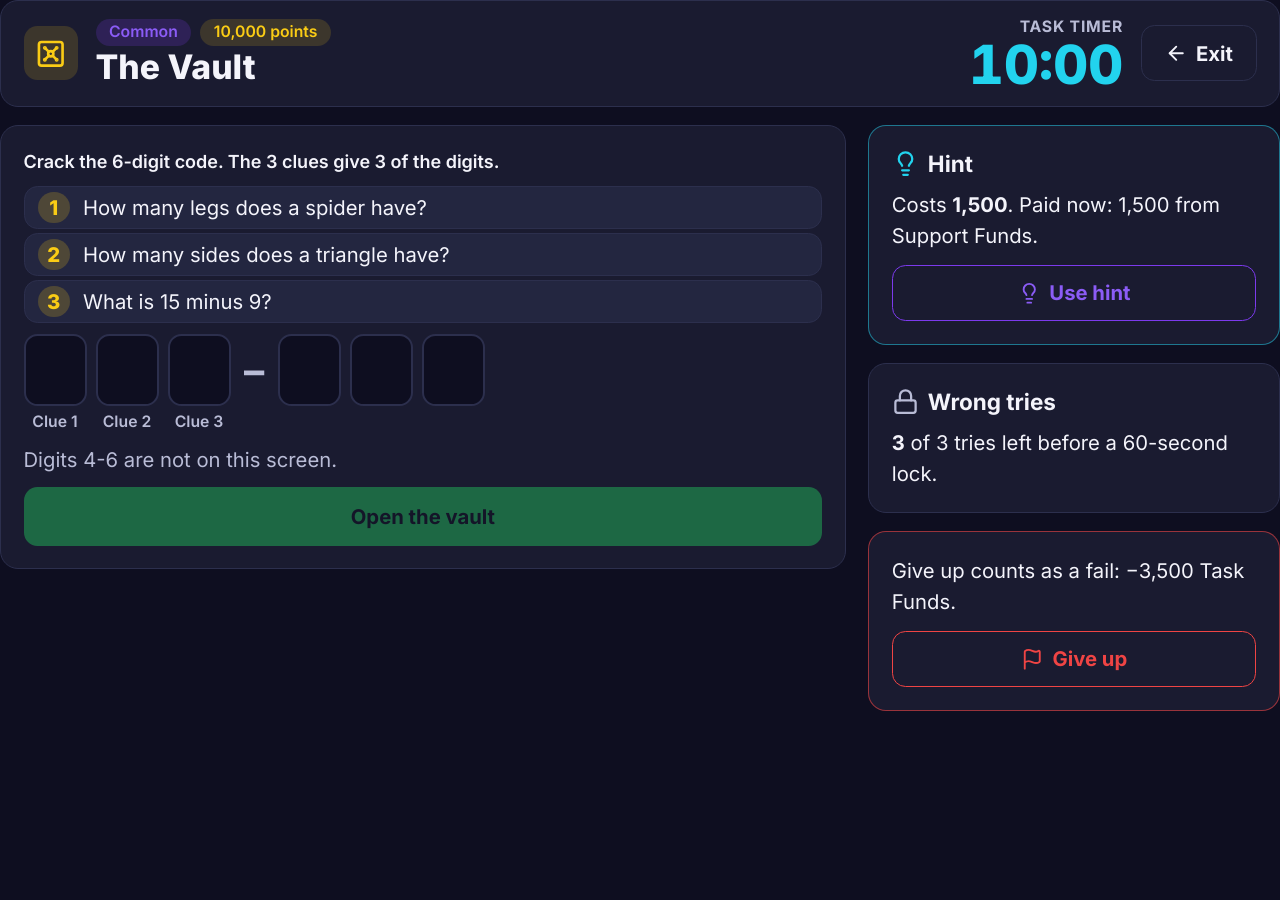
it: The Vault › shows the clues and sends the 6 digits typed in the boxes
The image size is (1280, 900).
Expected: the text "How many legs does a spider have?" is shown, [83,195,427,220]
Expected: the button "Open the vault" is disabled, [24,487,822,546]
Type "8" into the field named "Digit 1" at (55, 370), box [24,334,86,406]
Type "3" into the field named "Digit 2" at (127, 370), box [96,334,158,406]
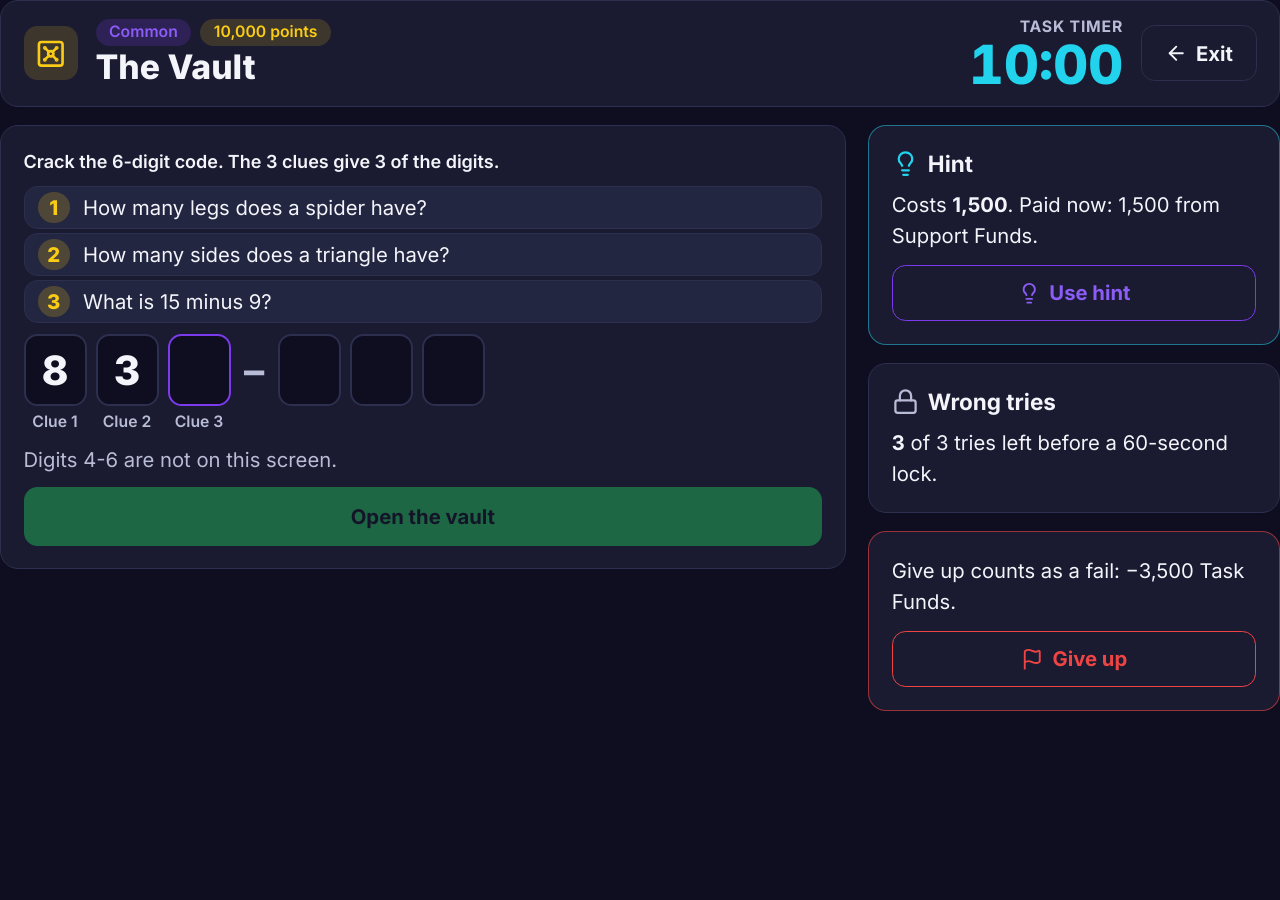
Type "6" into the field named "Digit 3" at (199, 370), box [168,334,230,406]
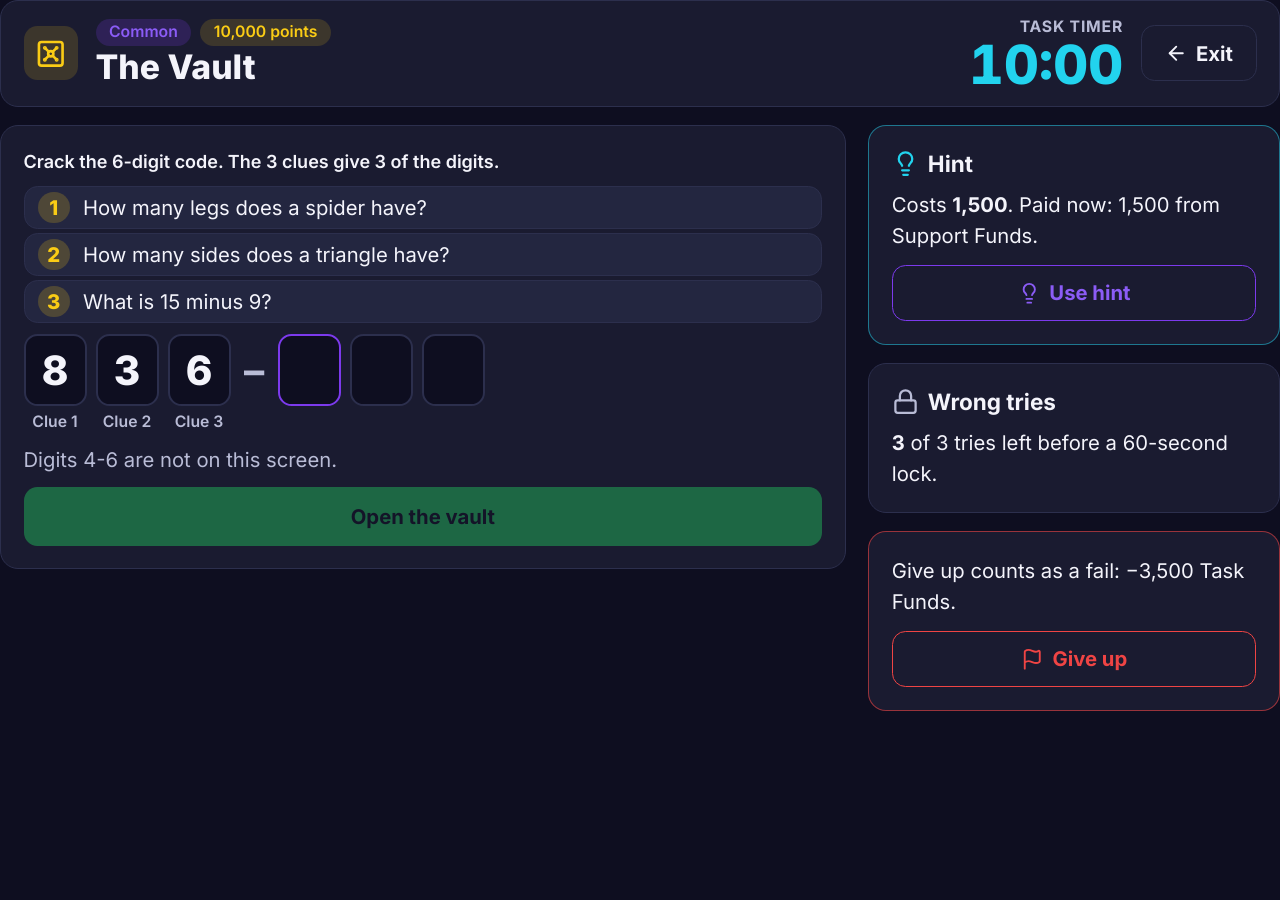
Type "4" into the field named "Digit 4" at (309, 370), box [278,334,341,406]
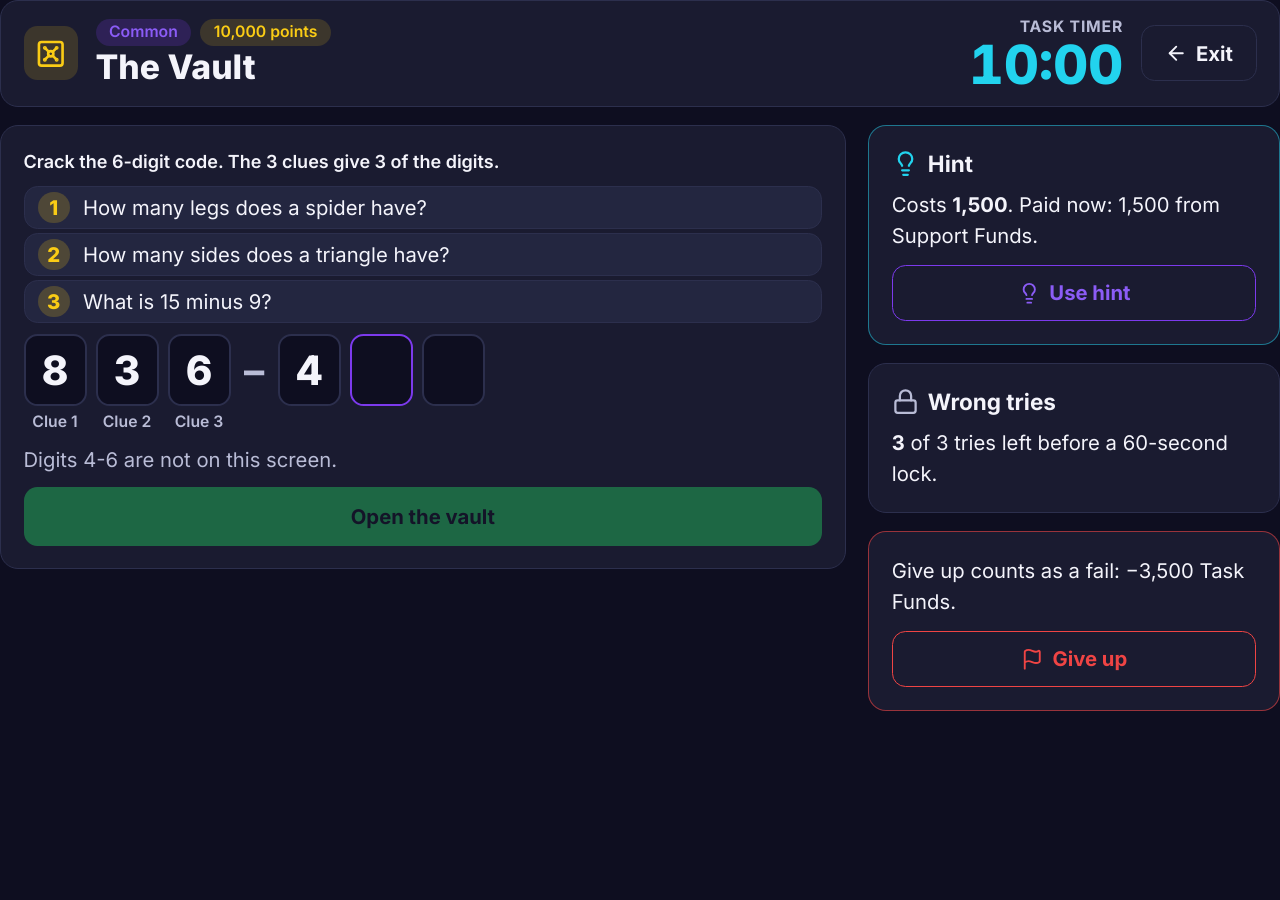
Type "2" into the field named "Digit 5" at (381, 370), box [350,334,413,406]
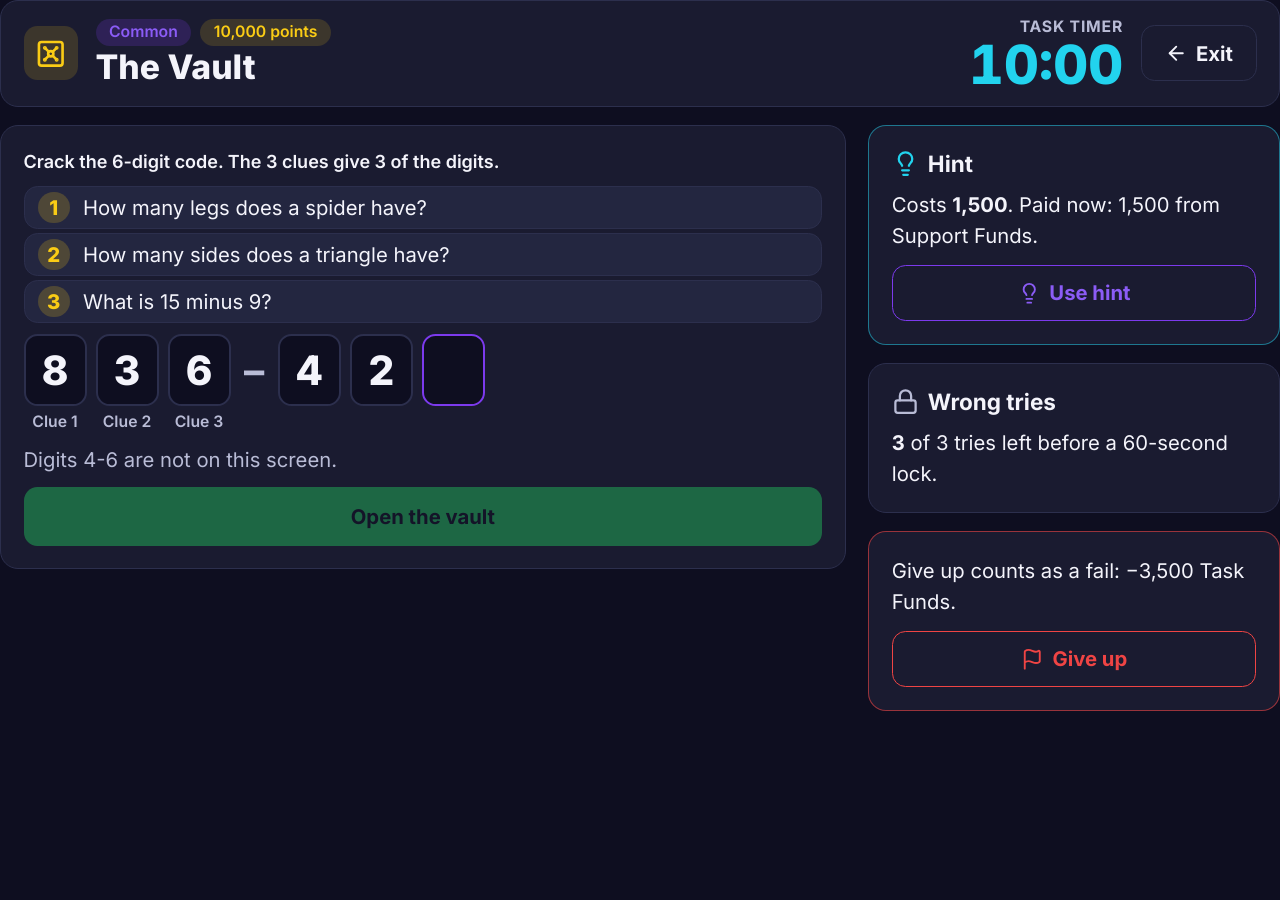
Type "9" into the field named "Digit 6" at (453, 370), box [422,334,485,406]
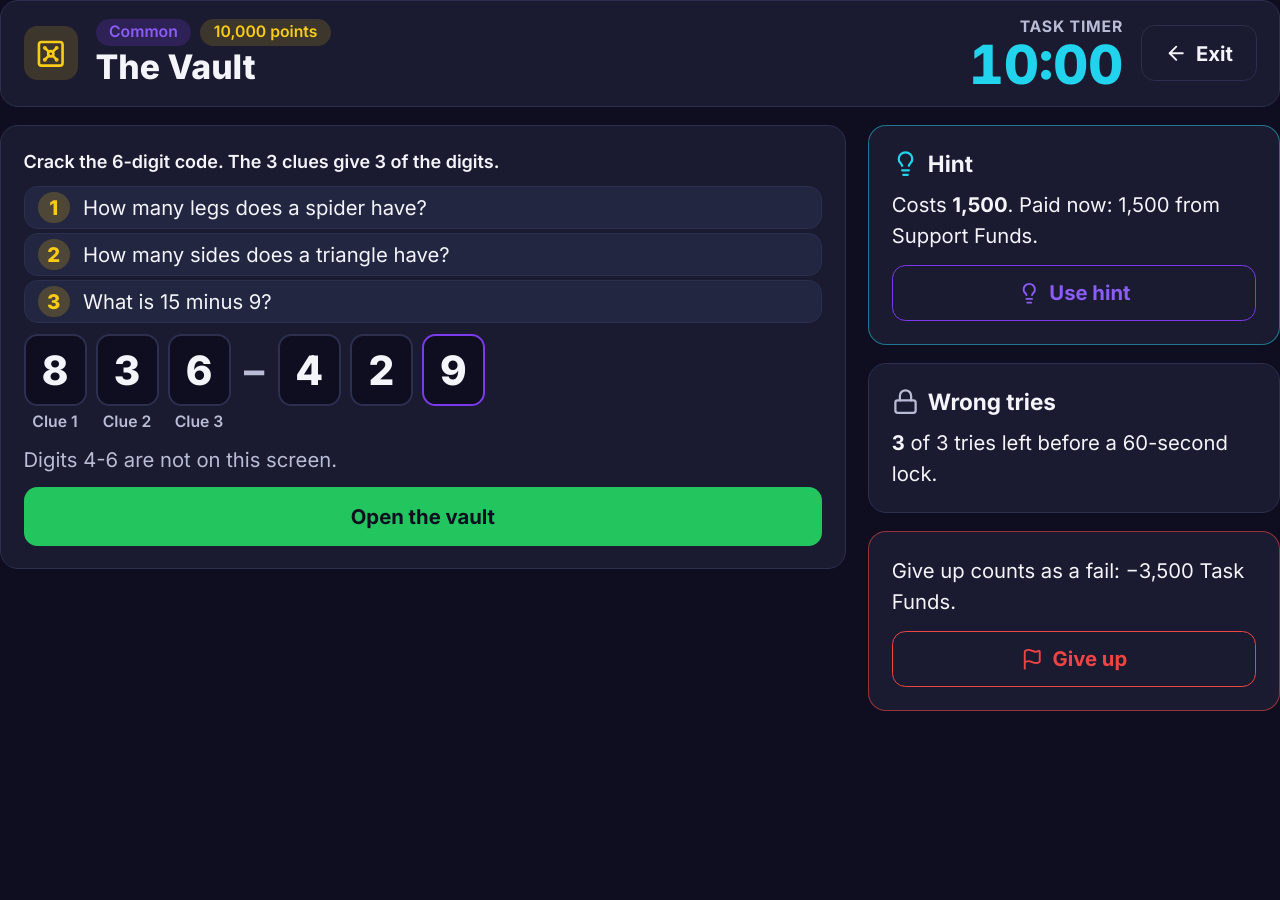
Result: the button "Open the vault" is enabled
Click the button "Open the vault" at (423, 516), box [24,487,822,546]
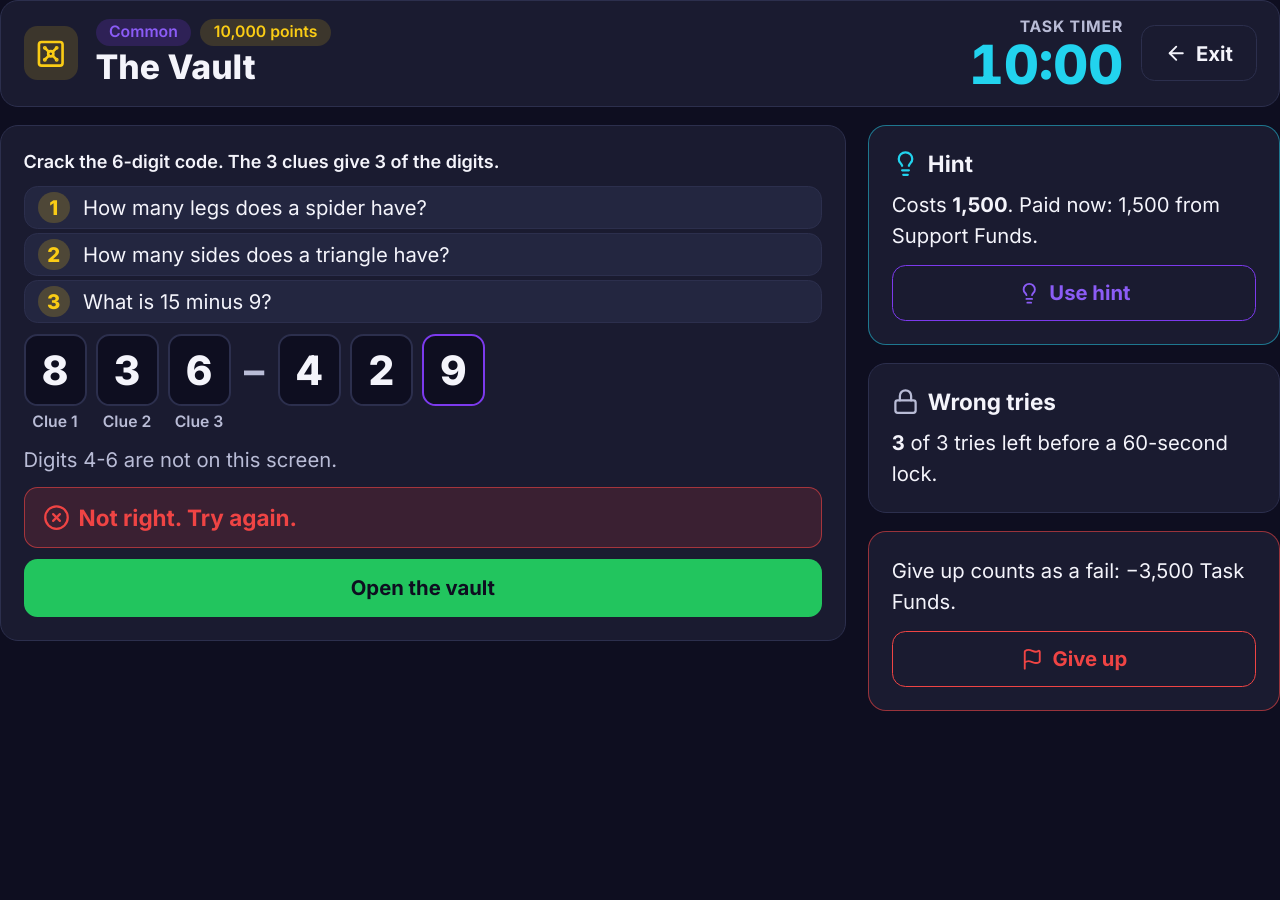
Result: the text "Not right. Try again." is shown at [24,487,822,548]
